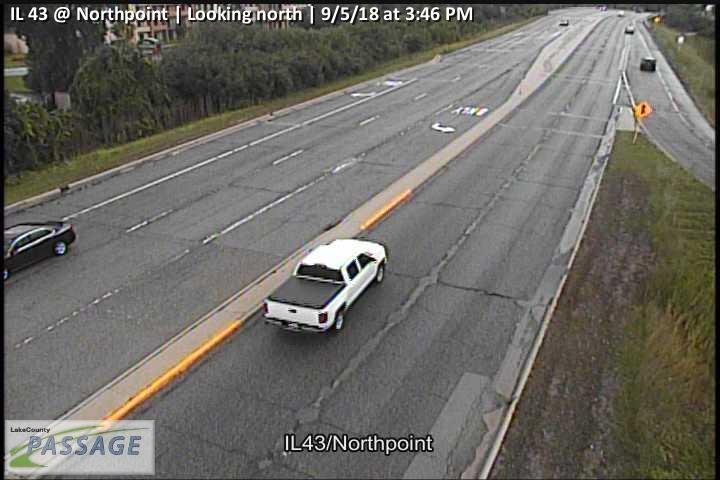Sedan: (1, 222, 76, 282)
Truck: (262, 239, 387, 332)
